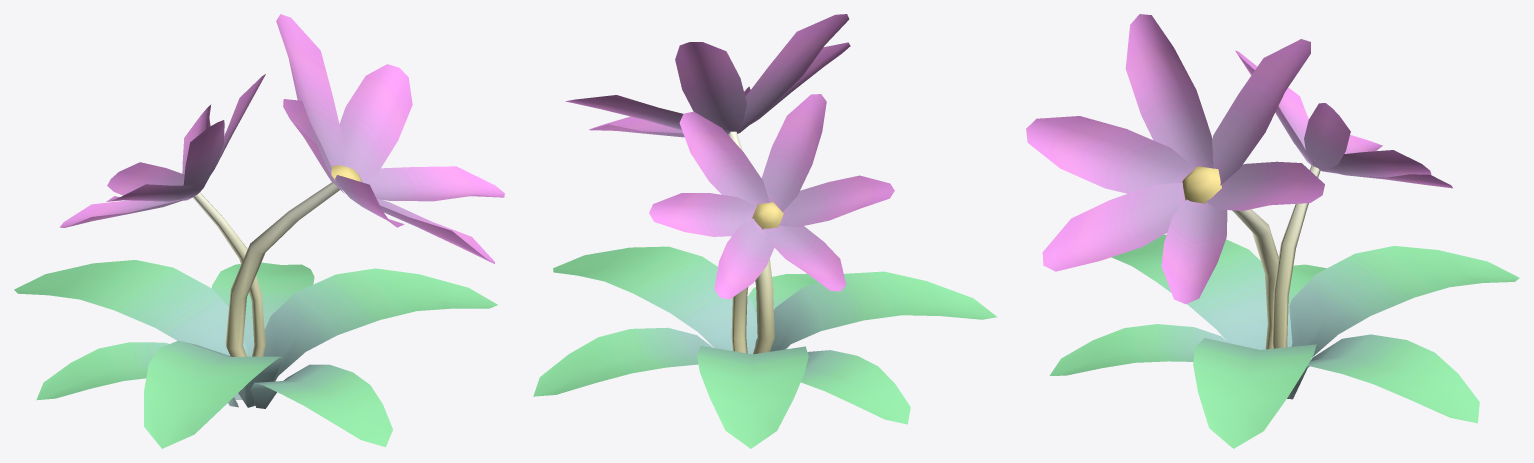
The model's file is Flower.009_Base_Material_0.fbx.
3 views of the same model, side by side, from view 1: azimuth 30°, elevation 25°; view 2: azimuth 150°, elevation 25°; view 3: azimuth 270°, elevation 25° (orthographic). The views are drawn at different scales.
Parts seen in each view (by area): view 1: Flower.009_Base_Material_0_export; view 2: Flower.009_Base_Material_0_export; view 3: Flower.009_Base_Material_0_export.
Part boxes in pixels (bbox=[...]): Flower.009_Base_Material_0_export: bbox=[14, 14, 504, 448]; Flower.009_Base_Material_0_export: bbox=[533, 14, 997, 448]; Flower.009_Base_Material_0_export: bbox=[1026, 14, 1519, 448].
Bounding box in the file's own units: 2.15 × 1.81 × 2.15.
